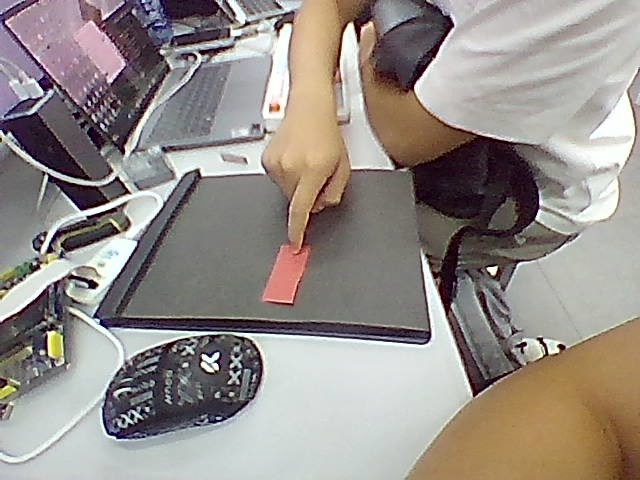card: (263, 245, 309, 304)
